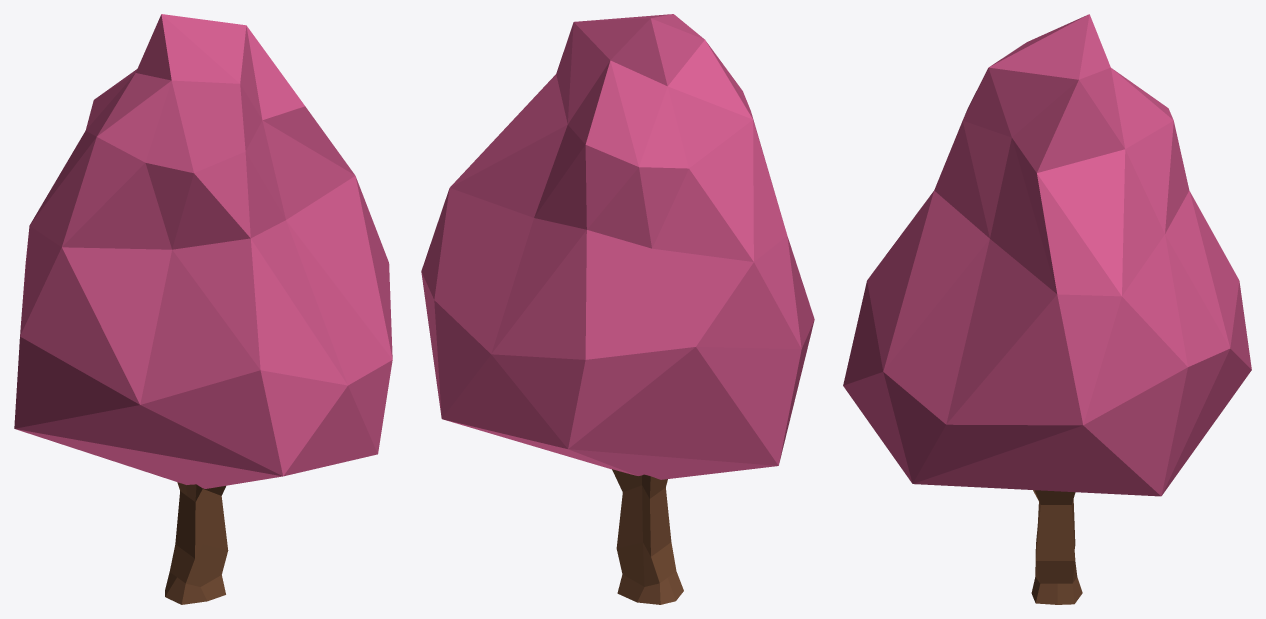
File: Tree_27_Pink.fbx
3 renders of one model, left to right at view 1: azimuth 30°, elevation 25°; view 2: azimuth 150°, elevation 25°; view 3: azimuth 270°, elevation 25°, orthographic. The views are drawn at different scales.
Parts seen in each view (by area): view 1: Tree_27_Pink_Part_1, Tree_27_Pink_Part_2; view 2: Tree_27_Pink_Part_1, Tree_27_Pink_Part_2; view 3: Tree_27_Pink_Part_1, Tree_27_Pink_Part_2.
Boxes of the visible parts, x1,y1,x2,y2 form: Tree_27_Pink_Part_1: [14, 14, 392, 488]; Tree_27_Pink_Part_2: [165, 482, 228, 604]; Tree_27_Pink_Part_1: [421, 14, 814, 479]; Tree_27_Pink_Part_2: [612, 469, 683, 604]; Tree_27_Pink_Part_1: [843, 14, 1251, 496]; Tree_27_Pink_Part_2: [1031, 490, 1082, 604].
Bounding box in the file's own units: 470 × 696 × 451.
